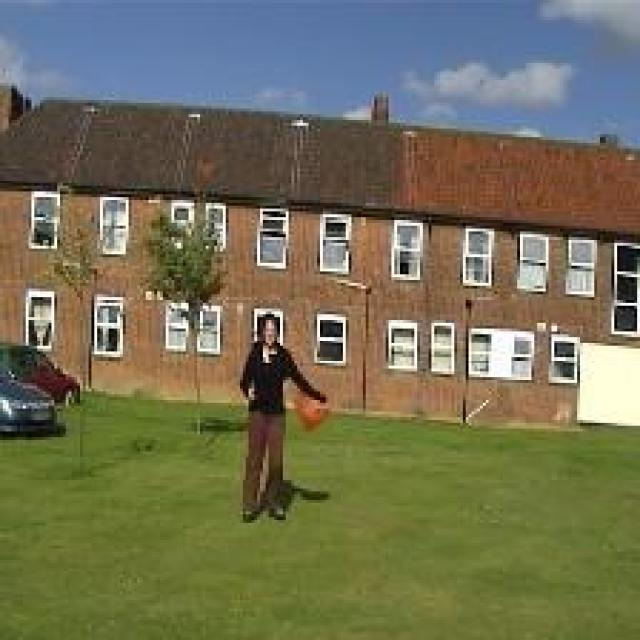other: (284, 384, 340, 426)
